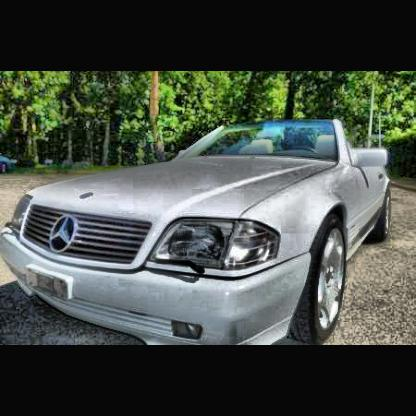Mercedes-Benz 300-Class Convertible 1993: (4, 116, 394, 345)
